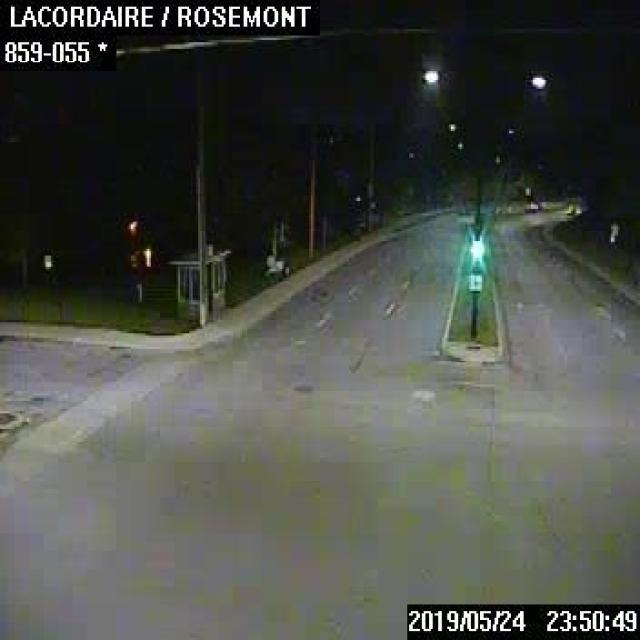construction: (262, 211, 288, 276)
